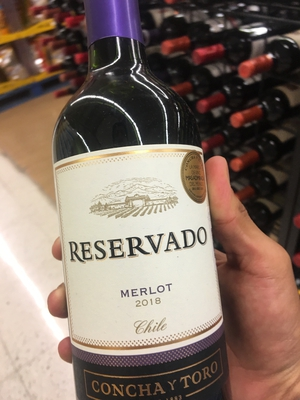reservado merlot: (42, 9, 238, 400)
